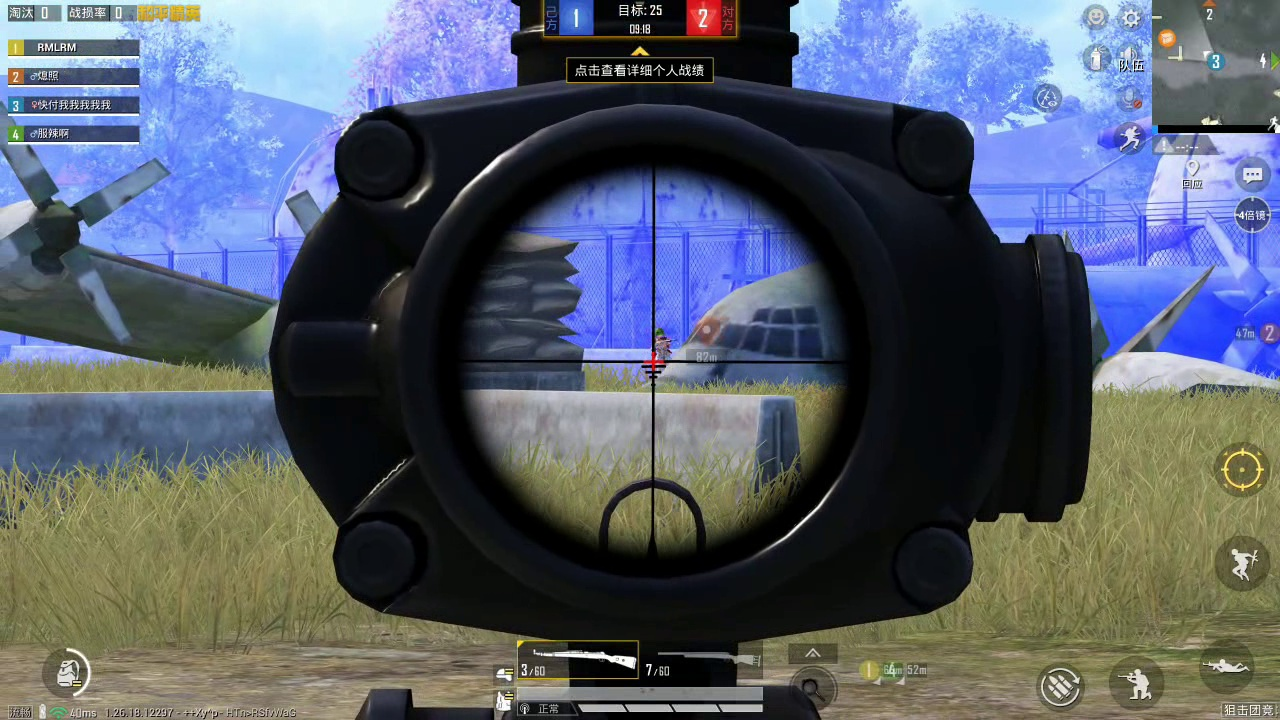enemy: (647, 328, 676, 366)
